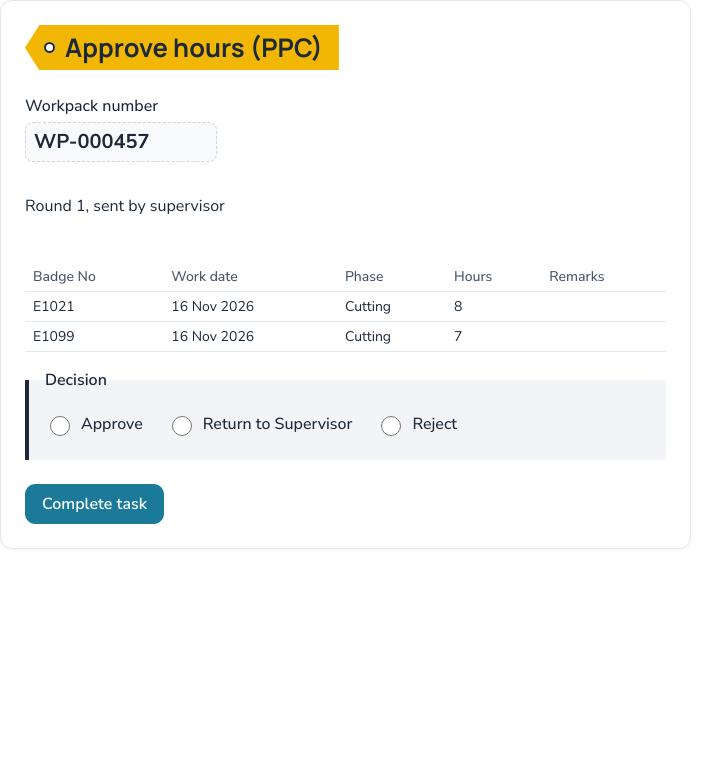
Test: ApproveHoursPpc › BPA57_rejectNeedsAReasonBeforeTheCallIsMade
Expected: the text "E1021" is shown, [25,292,163,322]
Click the radio button labelled "Reject" at (391, 426), box [381,416,401,436]
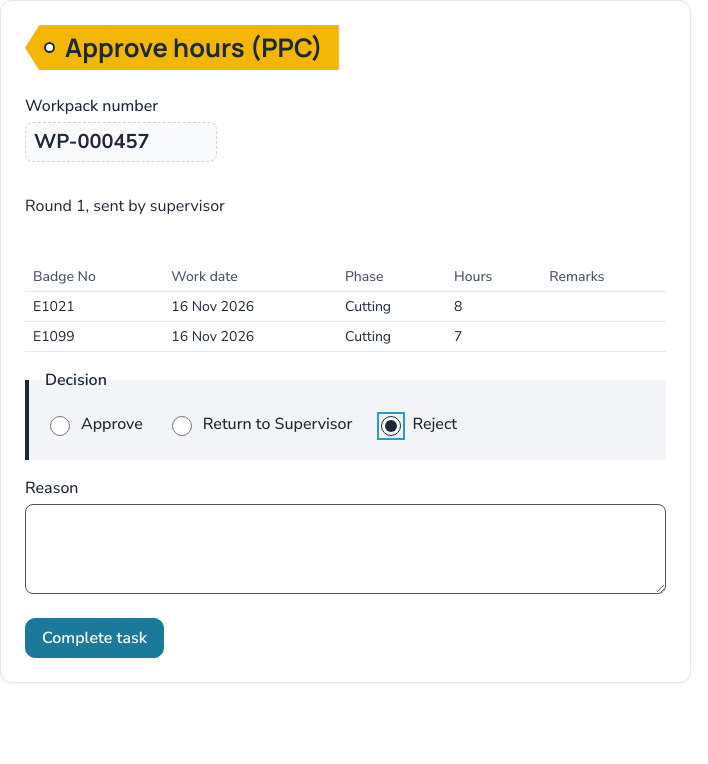
Click the button "Complete task" at (94, 638), box [25,618,164,658]
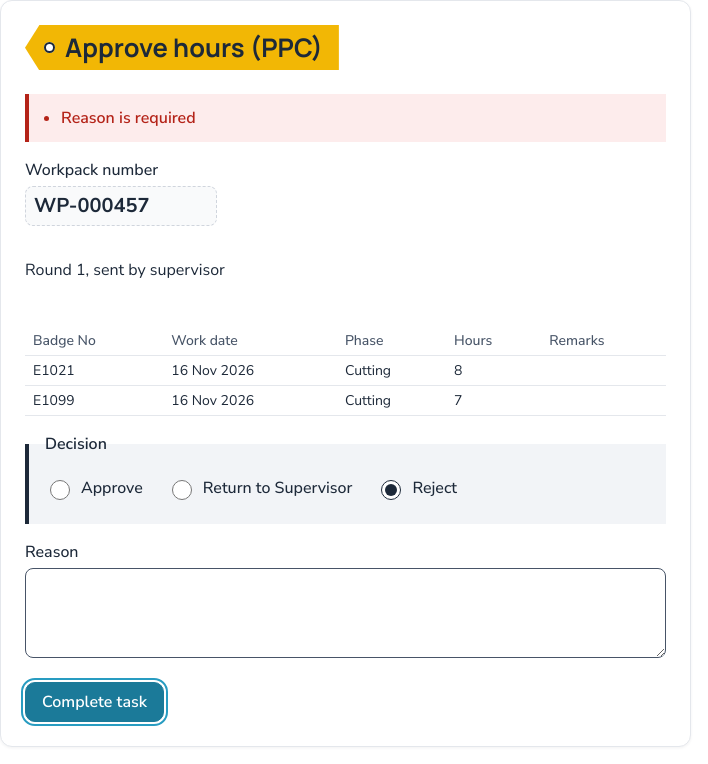
Now the list item "Reason is required" is shown, box [61,107,196,129]
